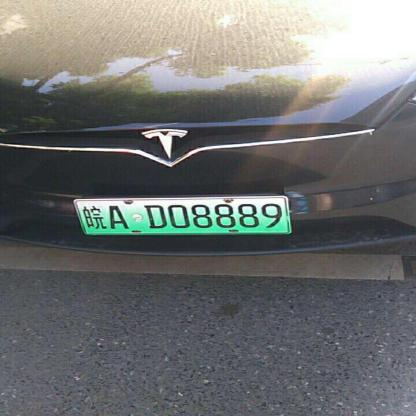lp: (75, 197, 288, 234)
